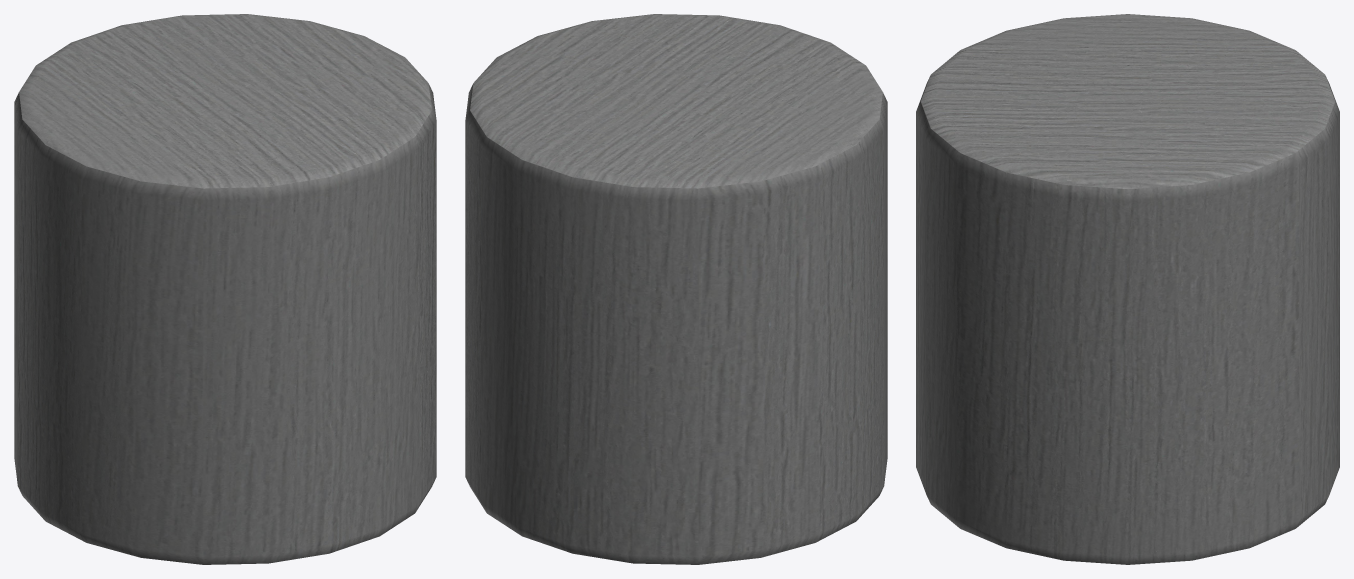
File: ABlock4CylinderModified.obj
The picture shows the model from 3 angles, left to right: view 1: azimuth 30°, elevation 25°; view 2: azimuth 150°, elevation 25°; view 3: azimuth 270°, elevation 25°; orthographic projection.
Parts seen in each view (by area): view 1: pCylinder1; view 2: pCylinder1; view 3: pCylinder1.
Boxes of the visible parts, box(x1,y1,x2,y2) form: pCylinder1: box(14, 14, 436, 564); pCylinder1: box(465, 14, 887, 564); pCylinder1: box(916, 14, 1339, 564).
Size of the model in its own units: 200 by 200 by 200.
1 material, 1 textured.
